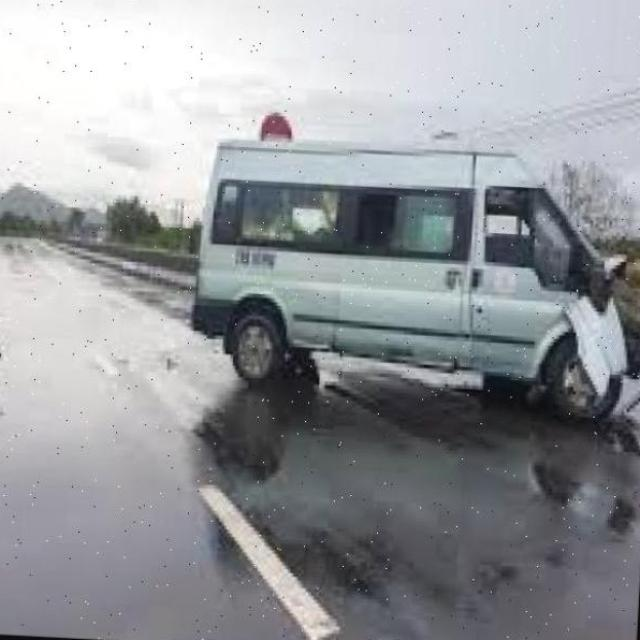accident: (401, 111, 640, 462)
